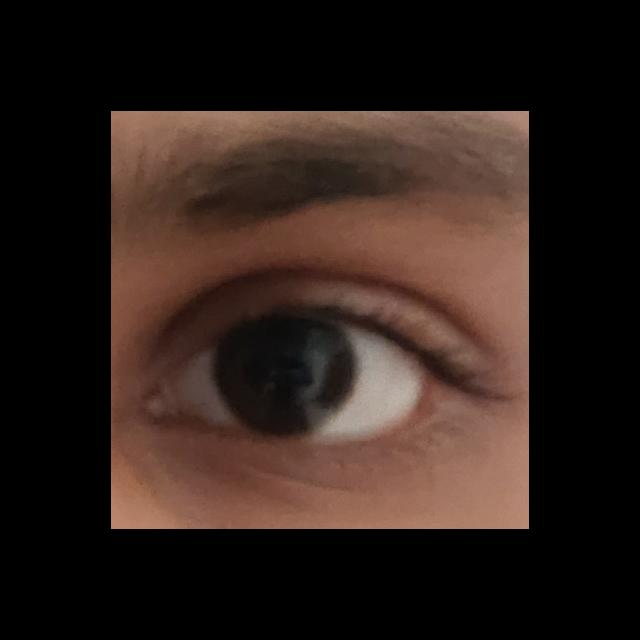eye: (179, 315, 423, 440)
iris: (214, 316, 356, 436)
